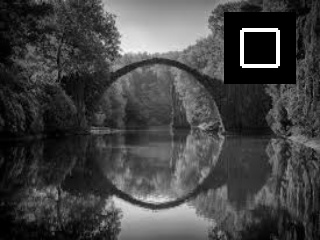square: (224, 12, 296, 84)
